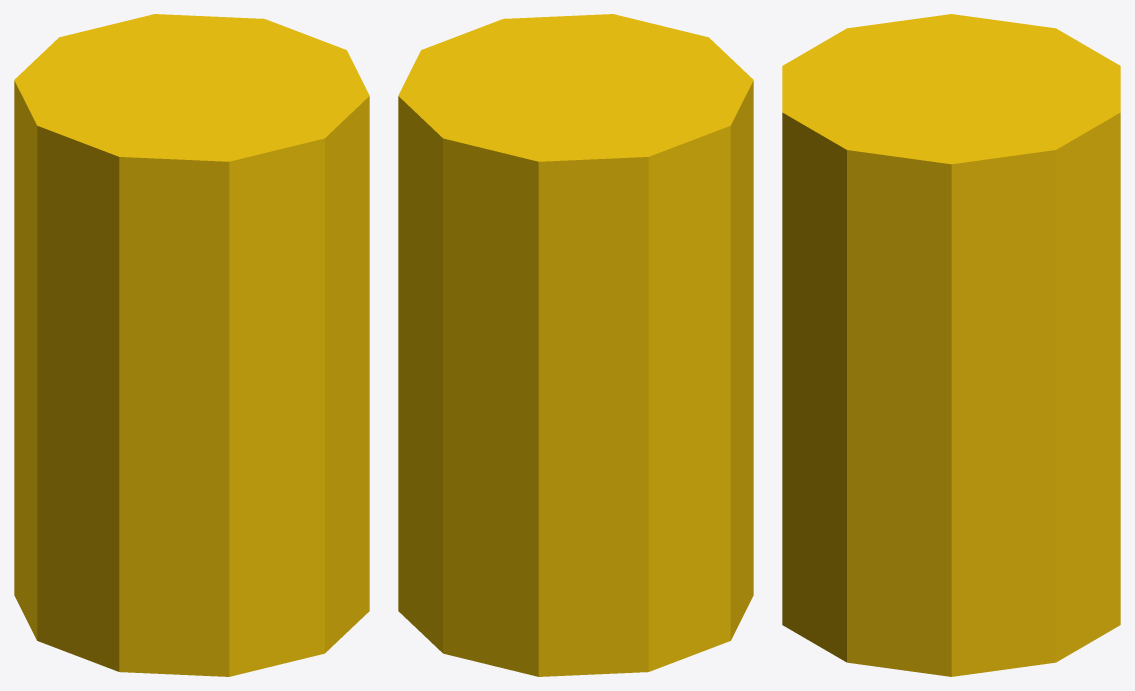
Rendered from prop38_liquidA.FBX.
The picture shows the model from 3 angles, left to right: view 1: azimuth 30°, elevation 25°; view 2: azimuth 150°, elevation 25°; view 3: azimuth 270°, elevation 25°; orthographic projection.
Visible parts, largest first — view 1: prop38_liquidA; view 2: prop38_liquidA; view 3: prop38_liquidA.
Boxes of the visible parts, box(x1,y1,x2,y2) form: prop38_liquidA: box(14, 14, 369, 676); prop38_liquidA: box(398, 14, 753, 676); prop38_liquidA: box(782, 14, 1120, 676).
Size of the model in its own units: 5.45 by 8.67 by 5.19.
